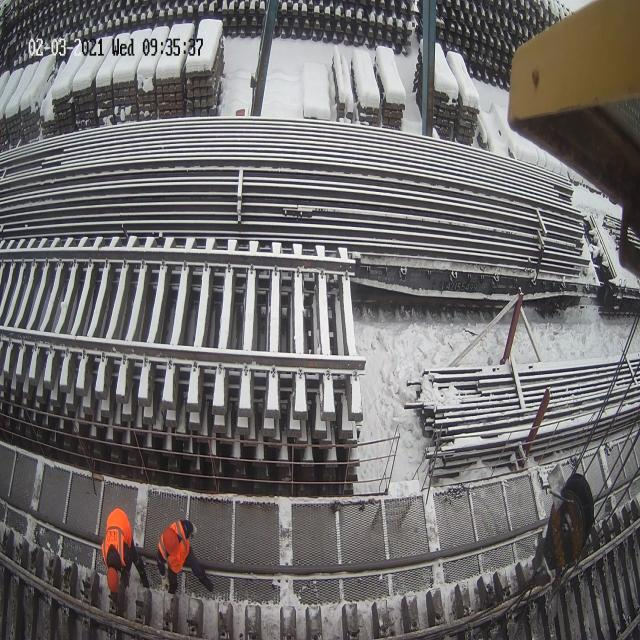Helmet: (162, 526, 184, 561), (106, 566, 118, 593)
Person: (156, 518, 213, 594), (101, 508, 150, 594)
